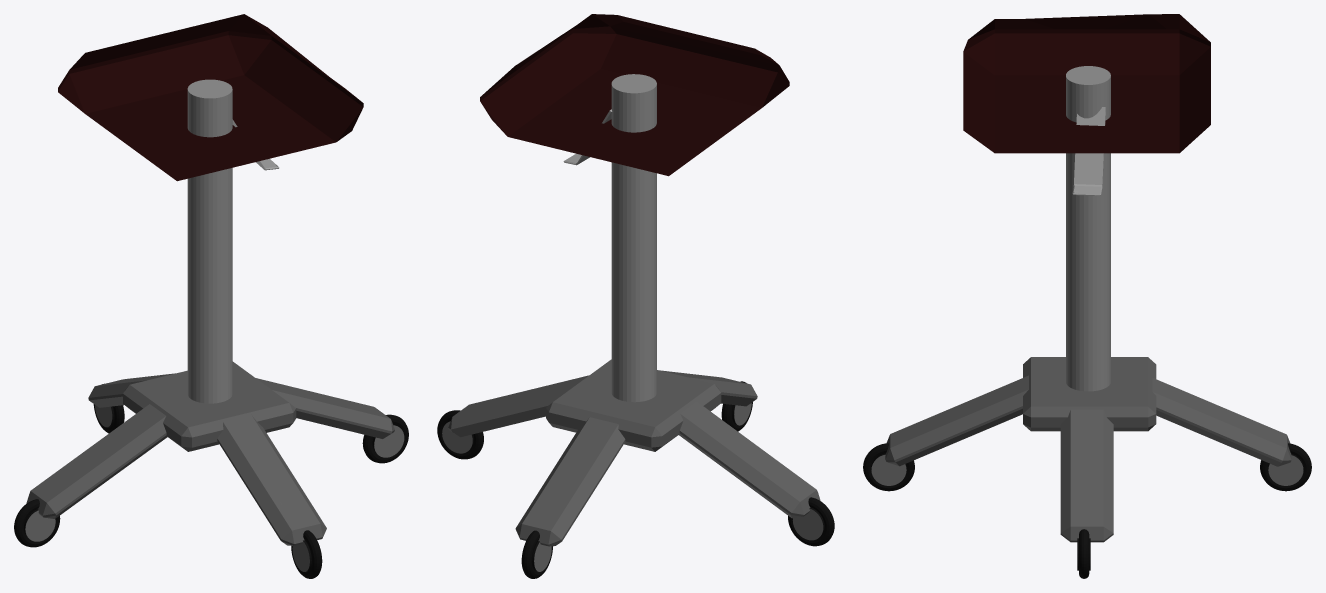
The model's file is tabouret.fbx.
The picture shows the model from 3 angles, left to right: view 1: azimuth 30°, elevation 25°; view 2: azimuth 150°, elevation 25°; view 3: azimuth 270°, elevation 25°; orthographic projection.
Parts seen in each view (by area): view 1: Cylinder; view 2: Cylinder; view 3: Cylinder.
Part boxes in pixels (<box>): Cylinder: <box>14,14,408,578</box>; Cylinder: <box>437,14,834,578</box>; Cylinder: <box>863,14,1311,578</box>.
Bounding box in the file's own units: 80.06 × 85.24 × 78.98.
